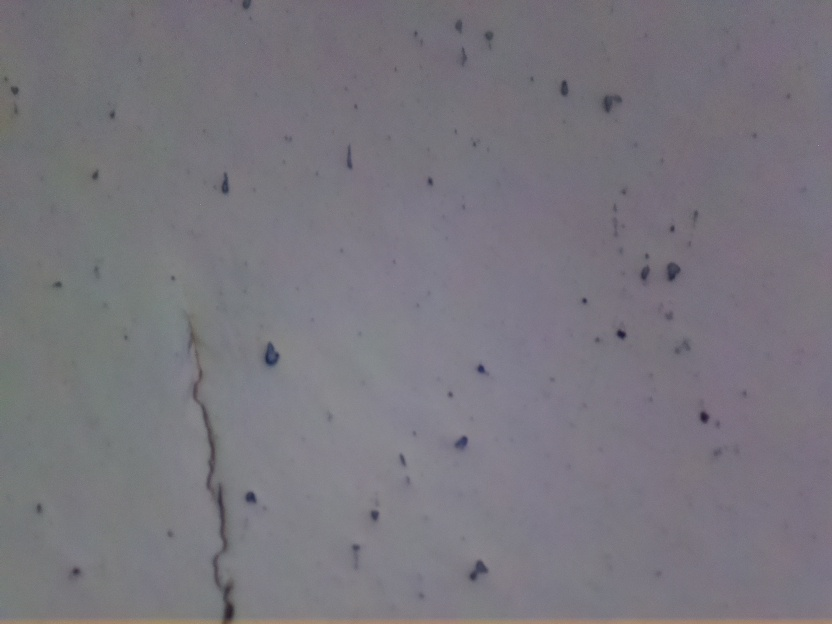crack: (173, 312, 238, 624)
